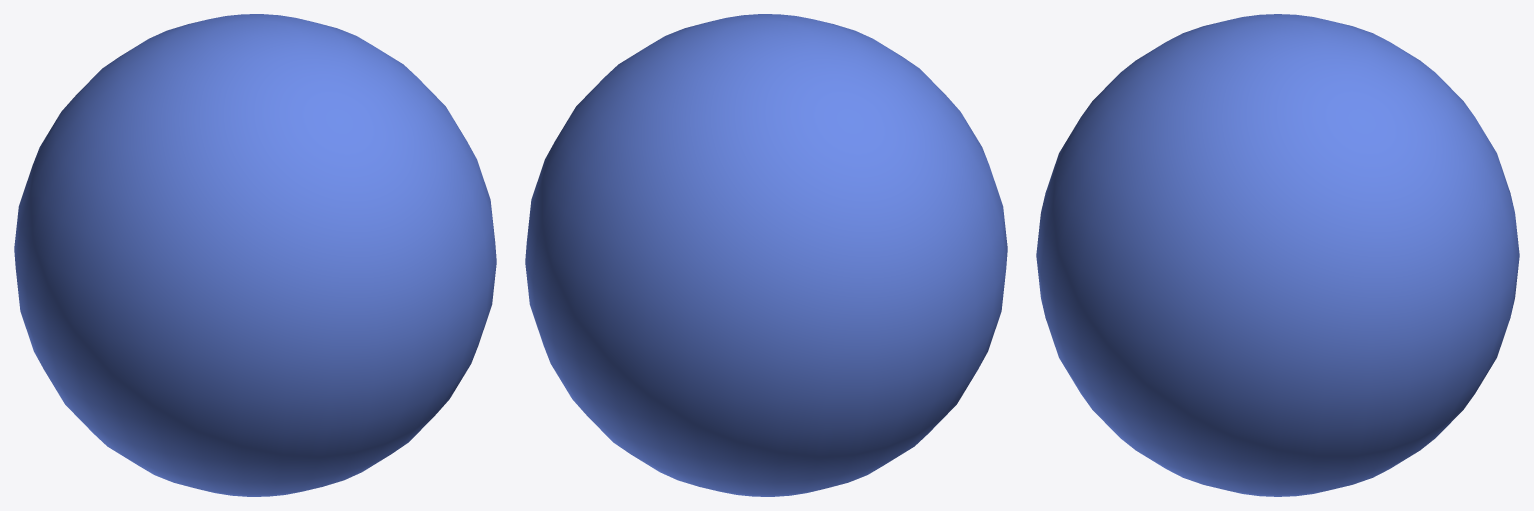
Rendered from earth_with_clouds.glb.
3 views of the same model, side by side, from view 1: azimuth 30°, elevation 25°; view 2: azimuth 150°, elevation 25°; view 3: azimuth 270°, elevation 25° (orthographic).
Visible parts, largest first — view 1: earth._atmosphere; view 2: earth._atmosphere; view 3: earth._atmosphere.
Part boxes in pixels (bbox=[...]): earth._atmosphere: bbox=[14, 14, 496, 496]; earth._atmosphere: bbox=[525, 14, 1007, 496]; earth._atmosphere: bbox=[1036, 14, 1519, 496].
Bounding box in the file's own units: 1.3 × 1.3 × 1.3.
